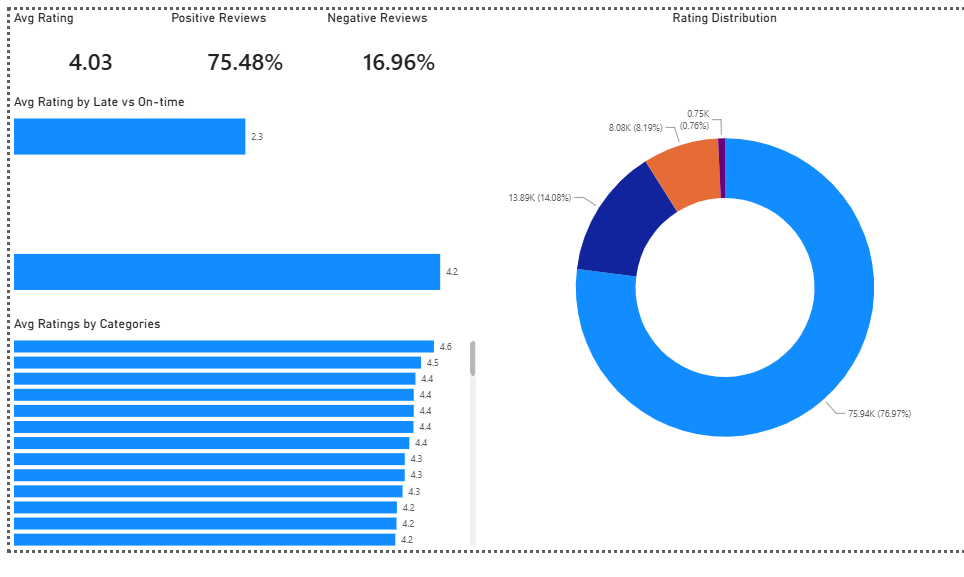

The dashboard page shown, as its layout file describes it:
{"tool":"powerbi","page":{"name":"Reviews Rating","canvas":[1280,720],"ordinal":5},"visuals":[{"type":"donutChart","title":"Rating Distribution","fields":{"Y":["public bi_fact_sales.Orders"],"Category":["public bi_fact_sales.Review Bucket"]},"box":[626,0,654,720],"z":0},{"type":"barChart","title":"Avg Ratings by Categories","fields":{"Category":["public bi_fact_sales.category"],"Y":["public bi_fact_sales.Avg Rating"]},"box":[0,408,626,312],"z":1000},{"type":"cardVisual","title":"Avg Rating","fields":{"Data":["public bi_fact_sales.Avg Rating"]},"box":[0,0,216,112],"z":2000},{"type":"cardVisual","title":"Positive Reviews","fields":{"Data":["public bi_fact_sales.Positive Reviews %"]},"box":[210,0,208,112],"z":3000},{"type":"cardVisual","title":"Negative Reviews","fields":{"Data":["public bi_fact_sales.Negative Reviews %"]},"box":[418,0,202,112],"z":4000},{"type":"barChart","title":"Avg Rating by Late vs On-time","fields":{"Y":["public bi_fact_sales.Avg Rating"],"Category":["public bi_fact_sales.is_late"]},"box":[0,112,626,266],"z":5000}]}

Visuals, with their boxes on the page's 1280x720 design canvas (x1, y1, x2, y2). These are canvas units, not pixel positions in the 964x577 screenshot, which may show the page scaled, cropped or inside an application window:
"Rating Distribution" donutChart: (left=626, top=0, right=1280, bottom=720)
"Avg Ratings by Categories" barChart: (left=0, top=408, right=626, bottom=720)
"Avg Rating" cardVisual: (left=0, top=0, right=216, bottom=112)
"Positive Reviews" cardVisual: (left=210, top=0, right=418, bottom=112)
"Negative Reviews" cardVisual: (left=418, top=0, right=620, bottom=112)
"Avg Rating by Late vs On-time" barChart: (left=0, top=112, right=626, bottom=378)
